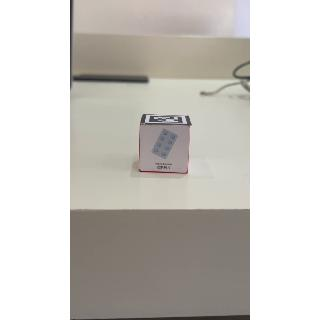Tablet: (141, 123, 190, 175)
